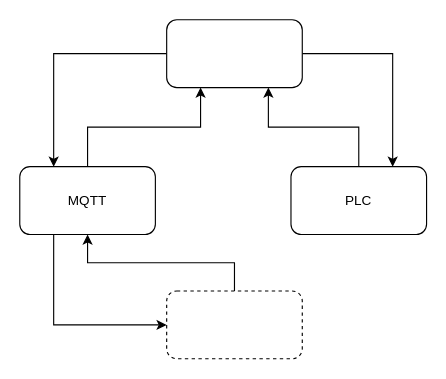
The diagram is 446 pixels wide and 379 high, and some of its shapes have lost their labels. Here are the shapes that lost their labels. From the top down, the box of each, then its label:
(166, 19, 302, 88): PC
(166, 290, 302, 359): Twincat IoT
